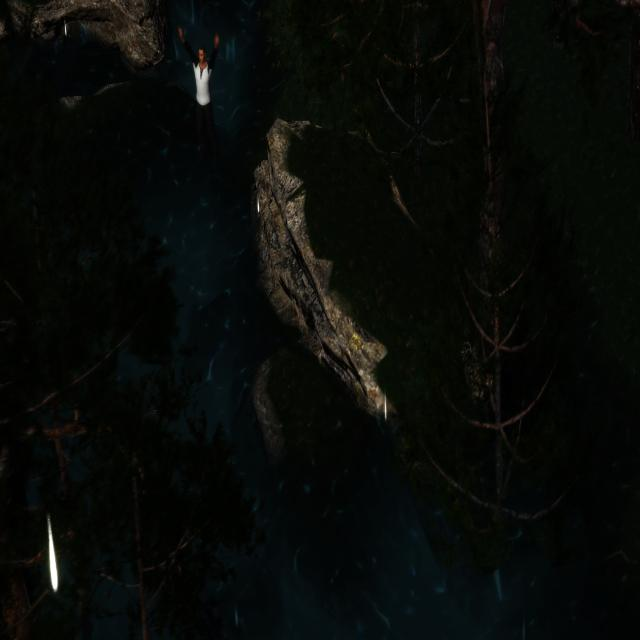Human: (176, 20, 226, 170)
